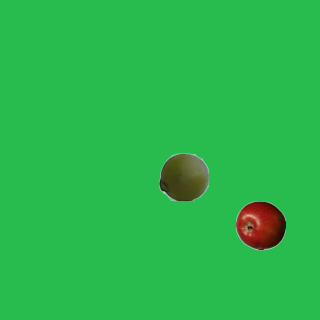Apple Braeburn: (235, 200, 285, 250)
Grape White 4: (158, 151, 208, 201)
